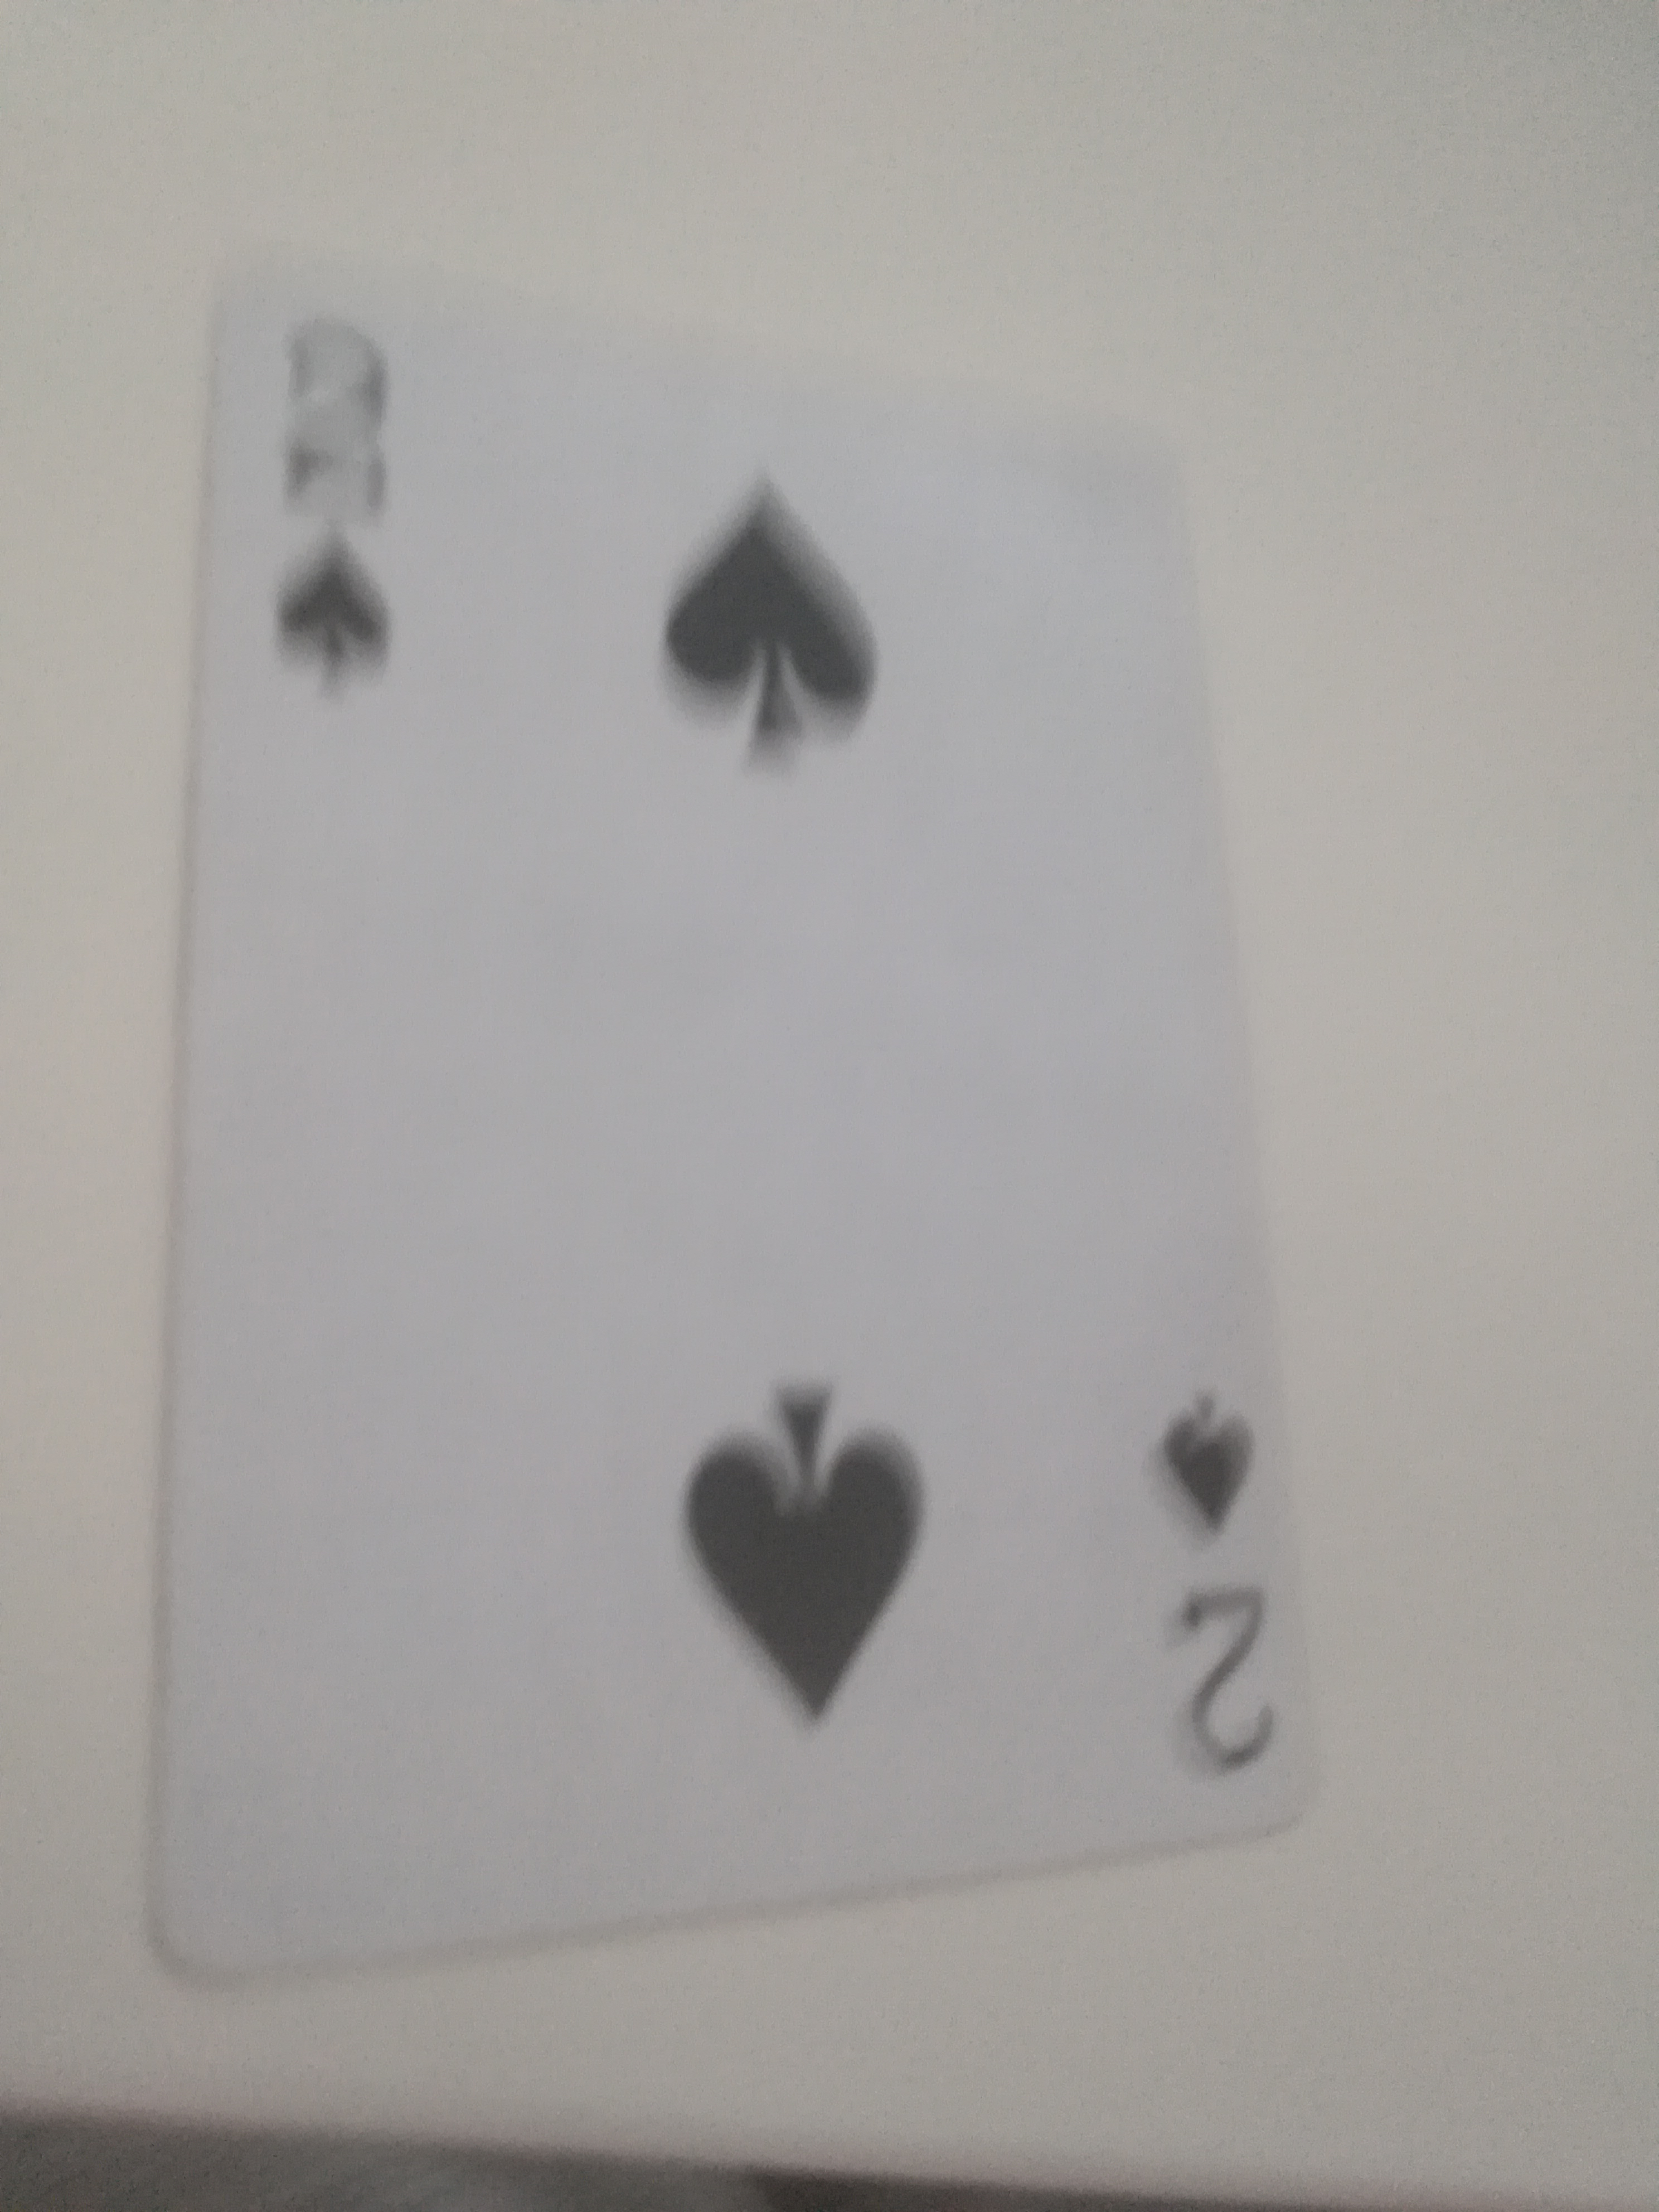2S: (96, 277, 1349, 1979)
